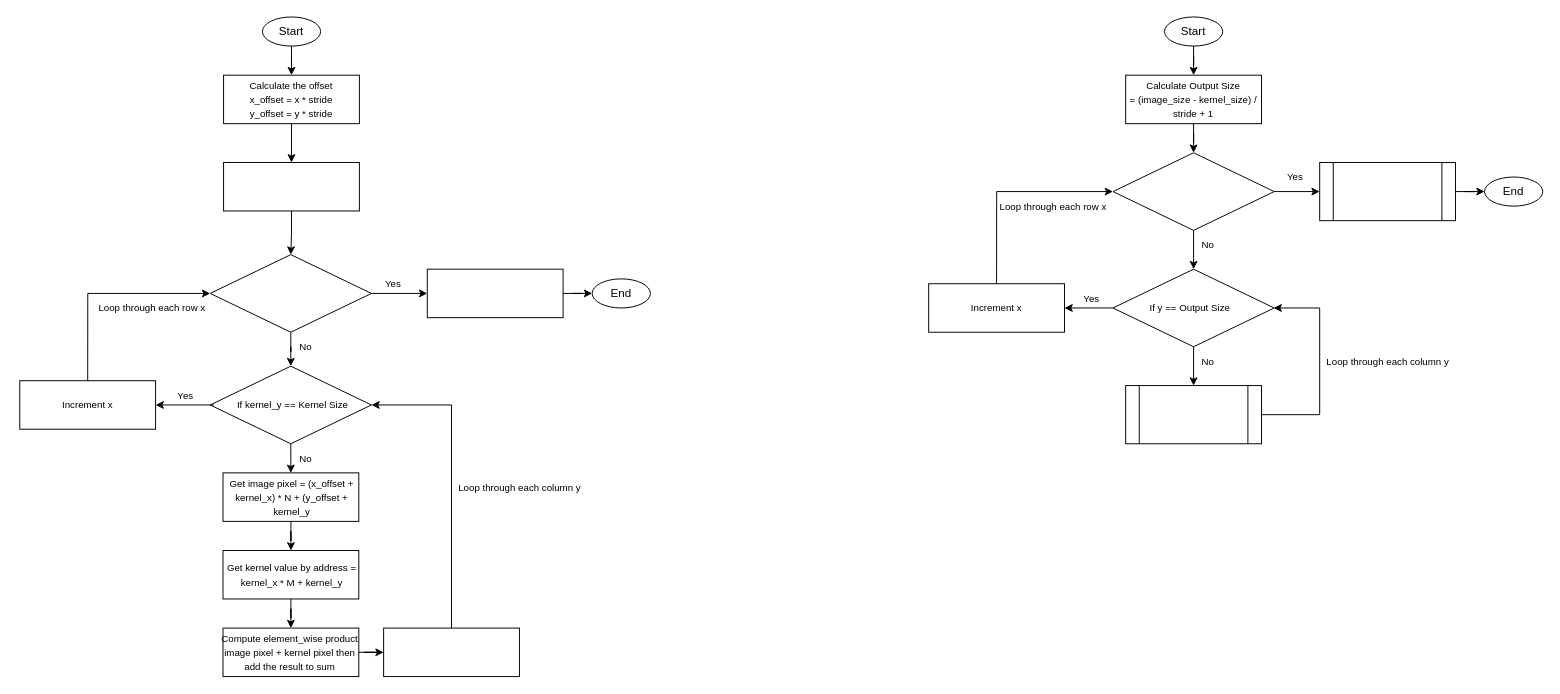
The diagram is 1560 pixels wide and 694 high, and some of its shapes have lost their labels. Each missing label, with the centre of its shape:
Call get_current_region: the point at 1193,414
If kernel_x == Kernel Size: the point at 290,293
If x == Output Size: the point at 1193,191
Increment y: the point at 451,652
Initialize the sum of element-wise products: the point at 291,186
Return (End of Function): the point at 494,293
Return and Print Output: the point at 1387,191
